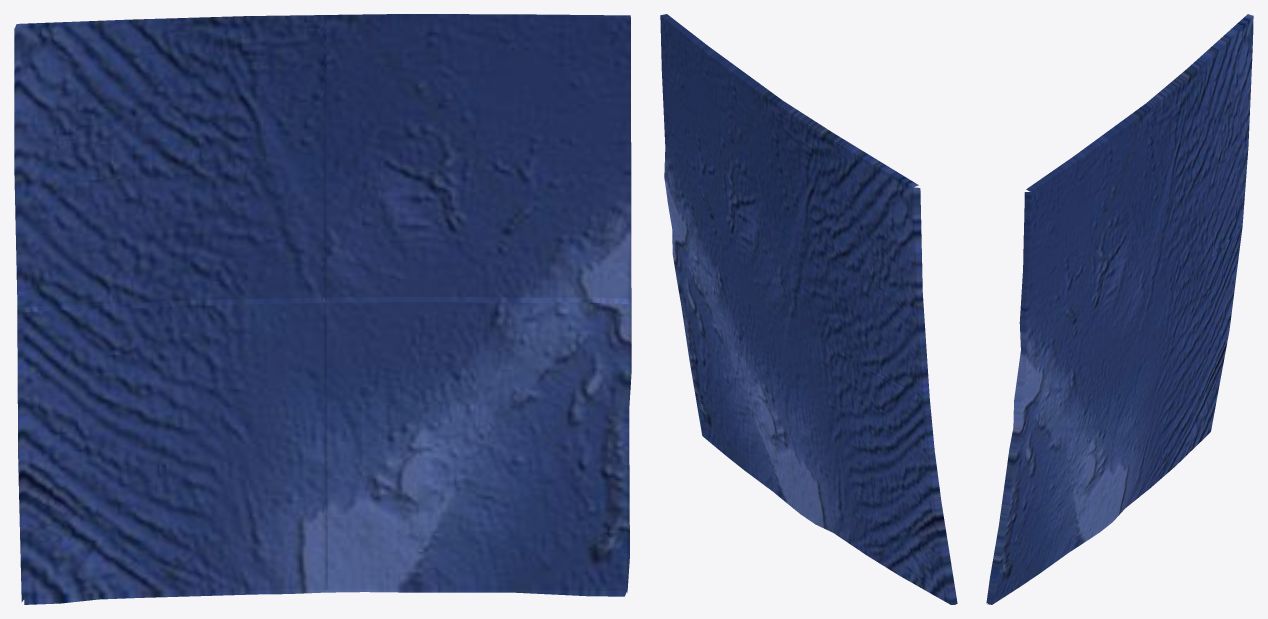
The picture shows the model from 3 angles, left to right: view 1: azimuth 30°, elevation 25°; view 2: azimuth 150°, elevation 25°; view 3: azimuth 270°, elevation 25°; orthographic projection. The views are drawn at different scales.
Bounding box in the file's own units: 1168220 × 1251695 × 709455.
Materials: 1 (1 with a texture image).
